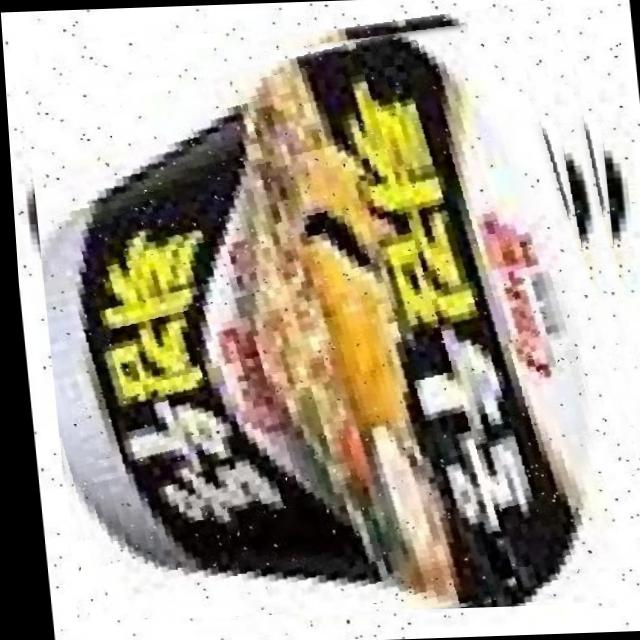Miscellaneous: (15, 8, 640, 620)
